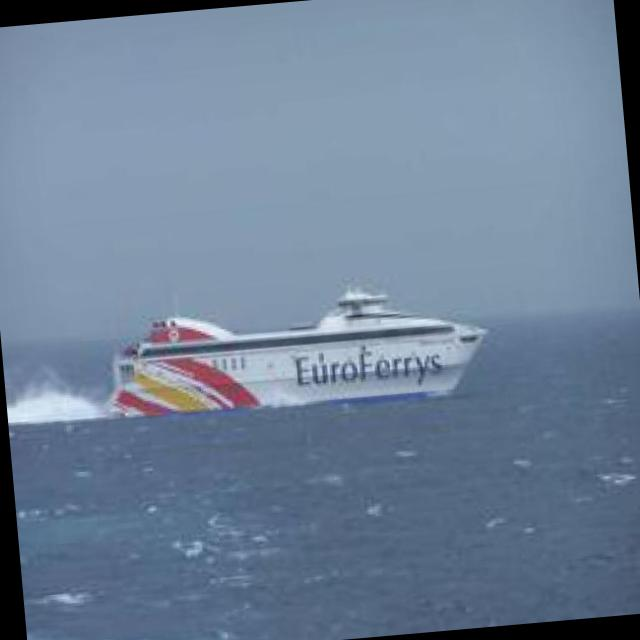boat: (94, 294, 494, 439)
